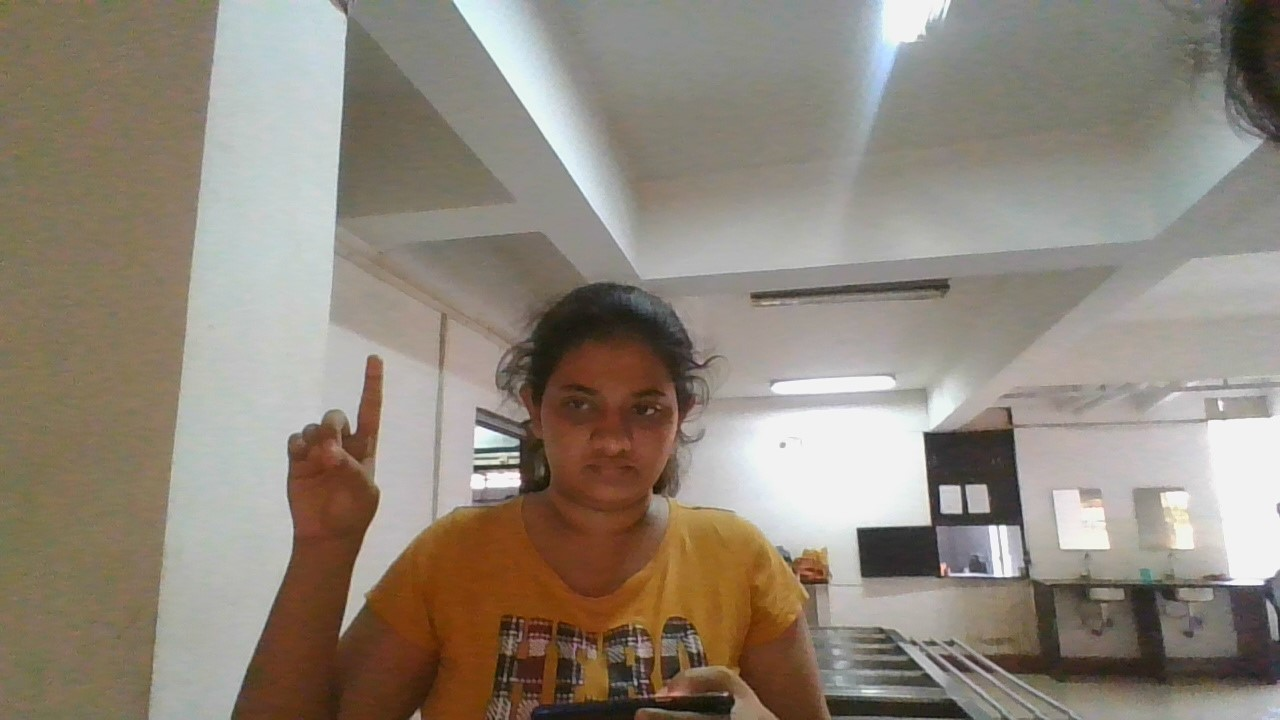d: (271, 352, 398, 559)
